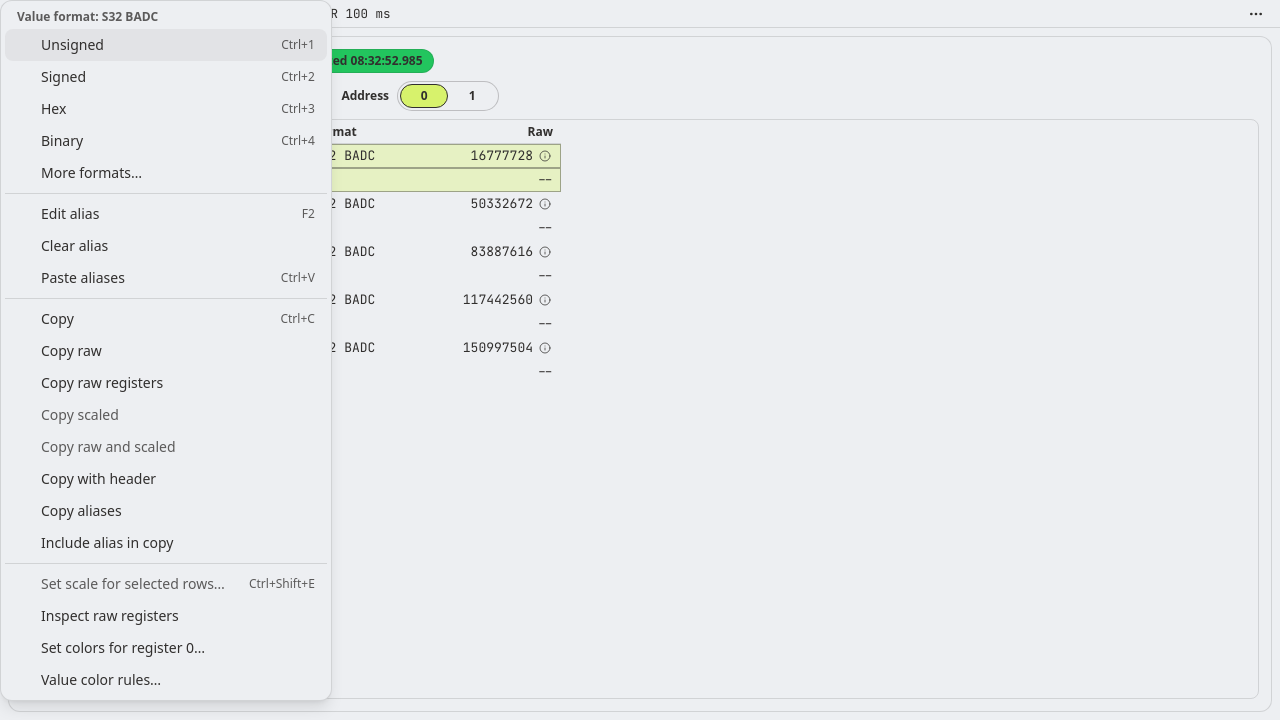
Test case: CHK9-94..96 the owner's scenario in workspace › CHK9-94: a right-click alone (no click first) opens on the whole row too
The image size is (1280, 720).
Click the menu item "More formats…". click: (92, 172)
box: 5,157 -> 327,189
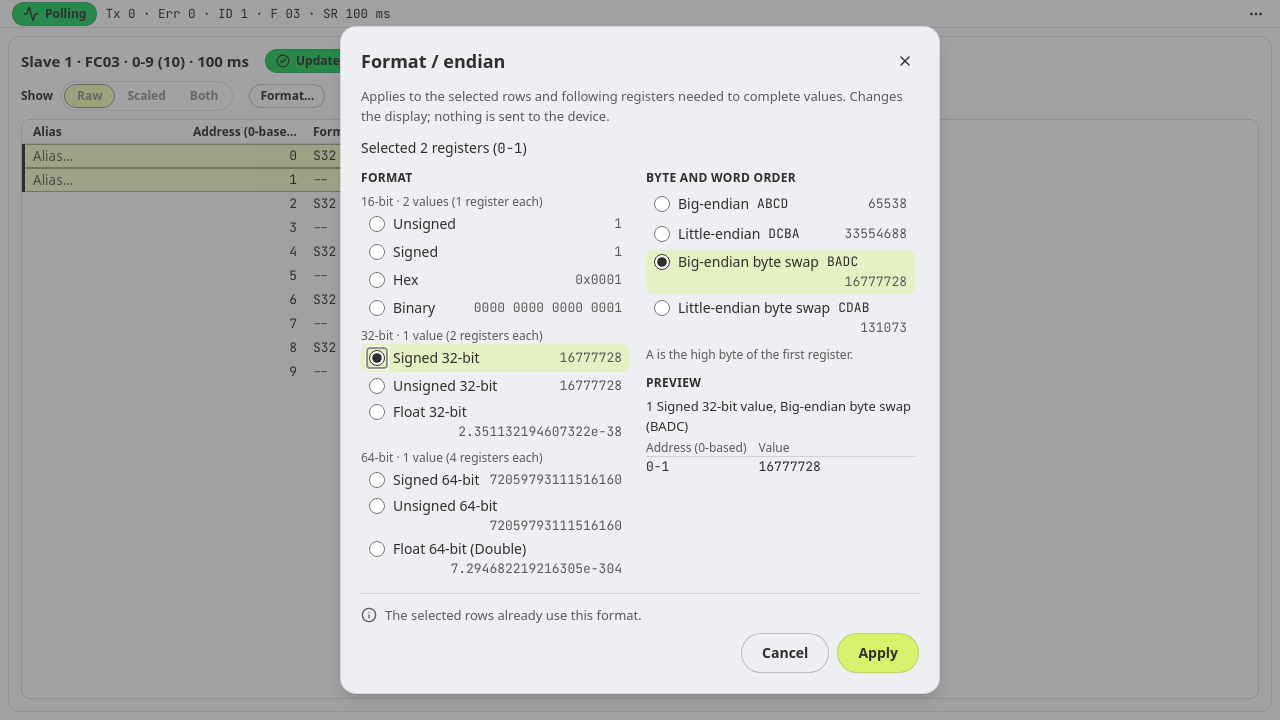
Expected: the element with test id "format-summary" reads "Selected 2 registers (0-1)", 361,138 -> 527,157
